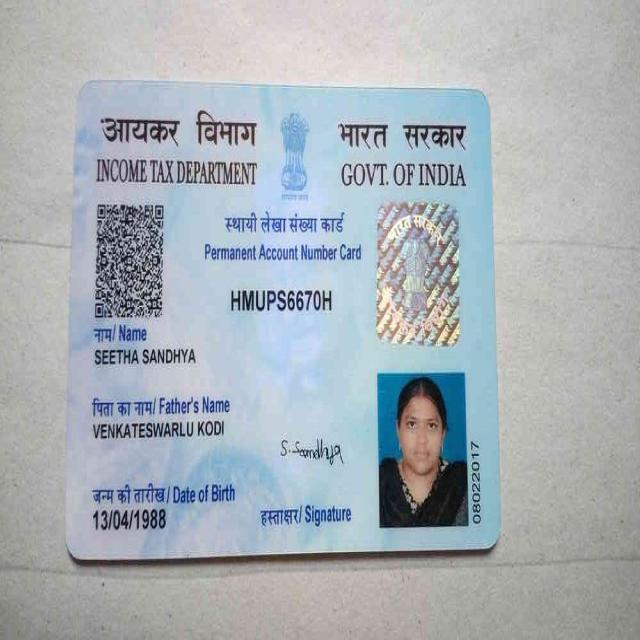pan_card: (80, 95, 492, 549)
